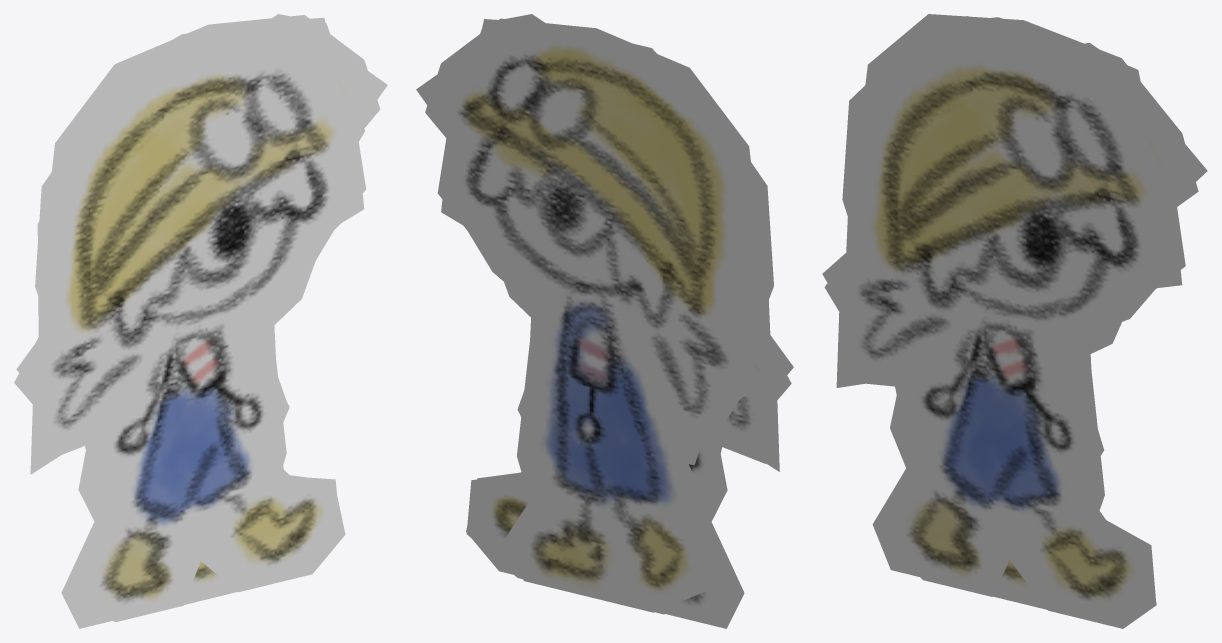
File: Walk.fbx
3 renders of one model, left to right at view 1: azimuth 30°, elevation 25°; view 2: azimuth 150°, elevation 25°; view 3: azimuth 330°, elevation 25°, orthographic. The views are drawn at different scales.
Parts seen in each view (by area): view 1: Walk6, Walk5, Walk2, Walk3, Walk4, Walk1; view 2: Walk1, Walk3, Walk2, Walk6, Walk5; view 3: Walk6, Walk5, Walk2, Walk3, Walk4, Walk1.
Boxes of the visible parts, x1,y1,x2,y2 form: Walk6: (16,35,364,622); Walk5: (35,14,366,604); Walk2: (52,15,380,449); Walk3: (14,123,336,628); Walk4: (84,17,354,513); Walk1: (173,33,387,464); Walk1: (416,24,762,612); Walk3: (466,196,791,628); Walk2: (425,18,760,614); Walk6: (466,282,793,574); Walk5: (480,14,773,303); Walk6: (822,30,1176,628); Walk5: (842,26,1179,609); Walk2: (865,14,1198,507); Walk3: (824,283,1155,599); Walk4: (893,16,1168,515); Walk1: (992,17,1207,510).
Size of the model in its own units: 31.5 by 45.86 by 0.5636.
1 material, 1 textured.
